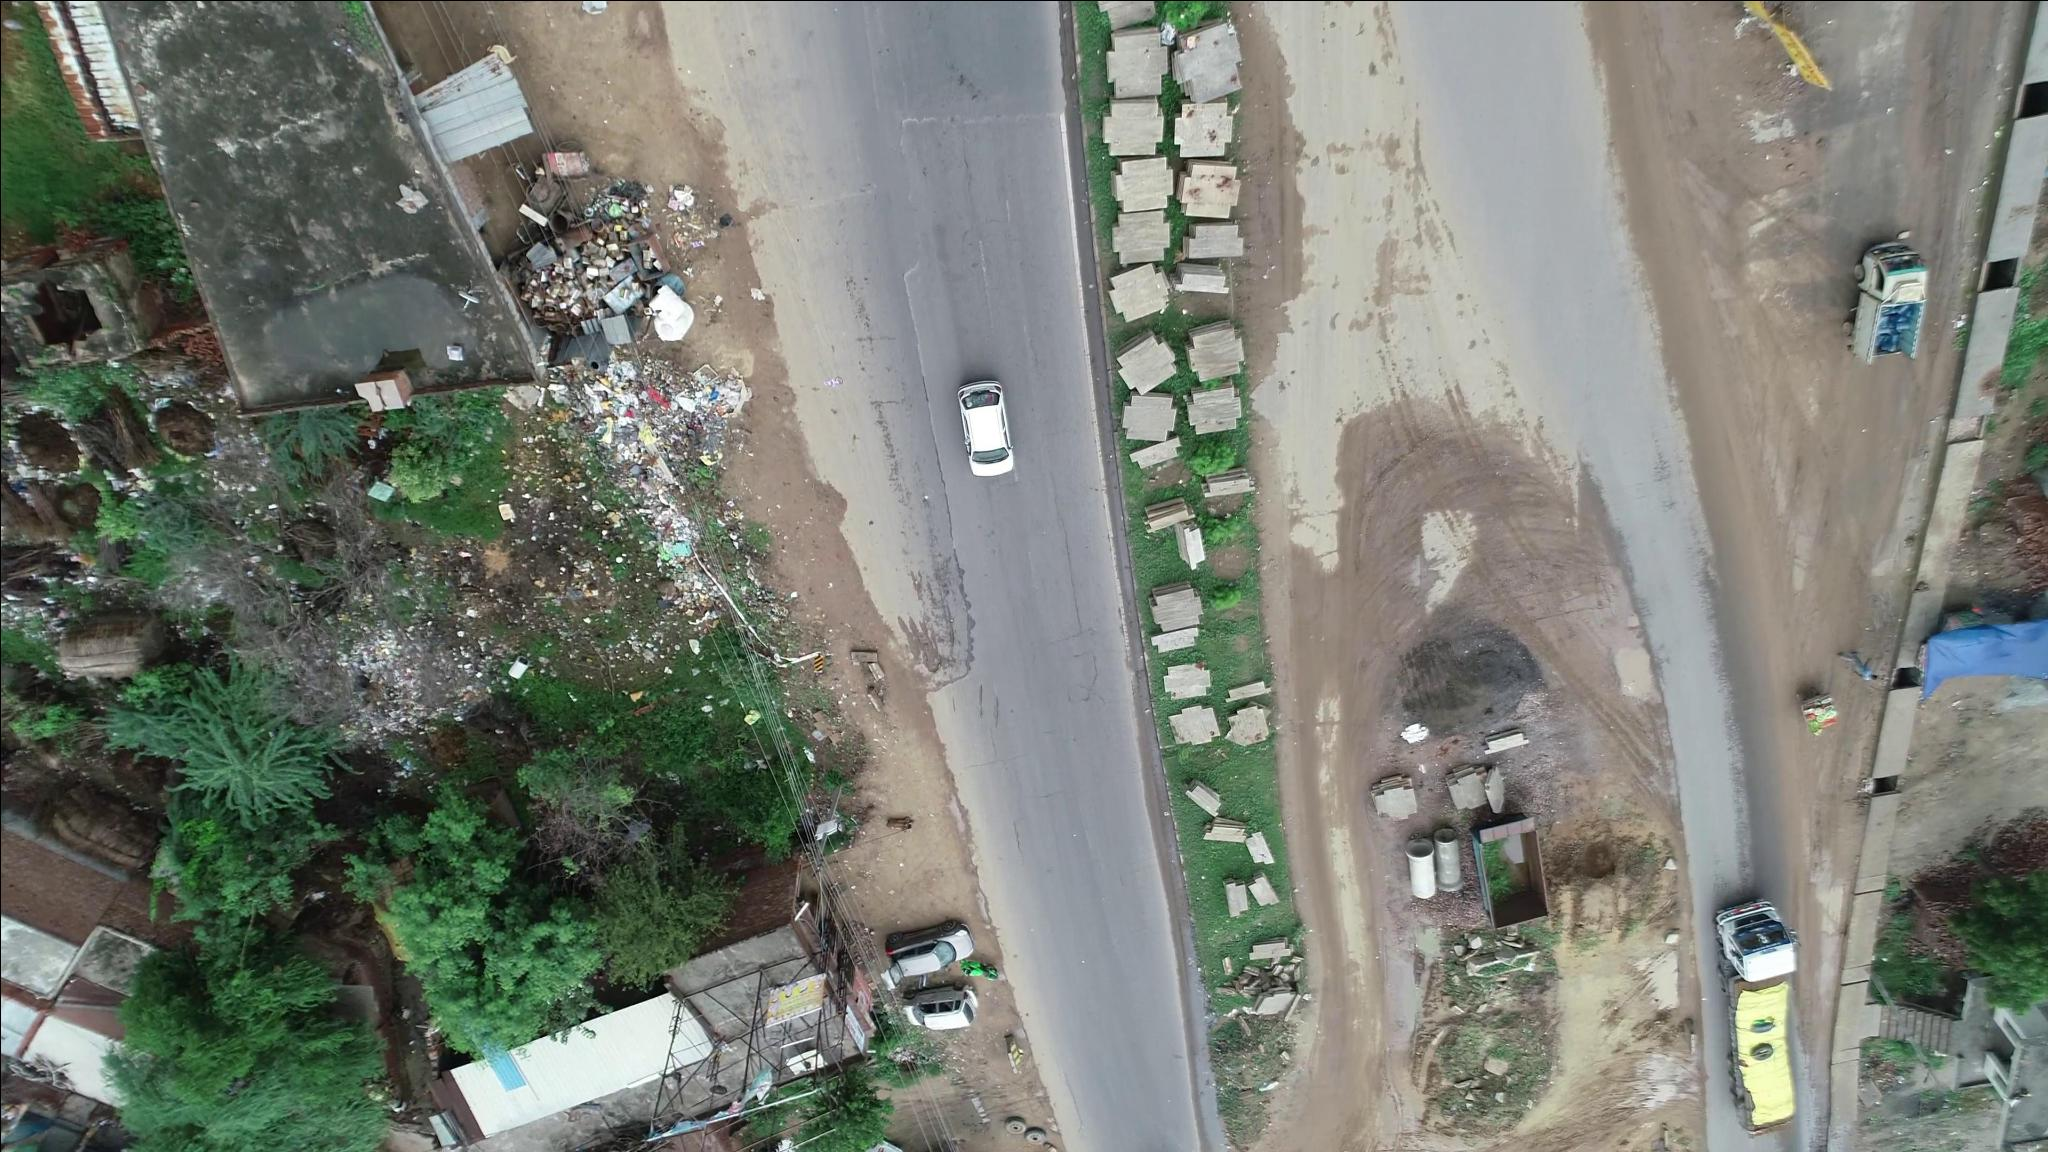Muddy_road: (1324, 397, 1606, 584)
